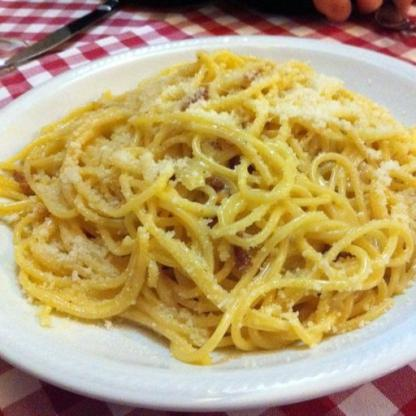pasta: (0, 48, 415, 362)
